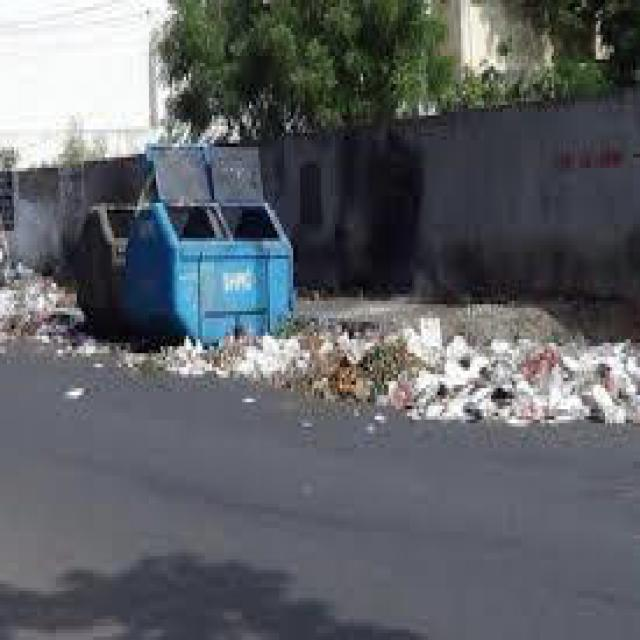garbage: (402, 315, 638, 430), (166, 336, 400, 392), (0, 262, 77, 343)
